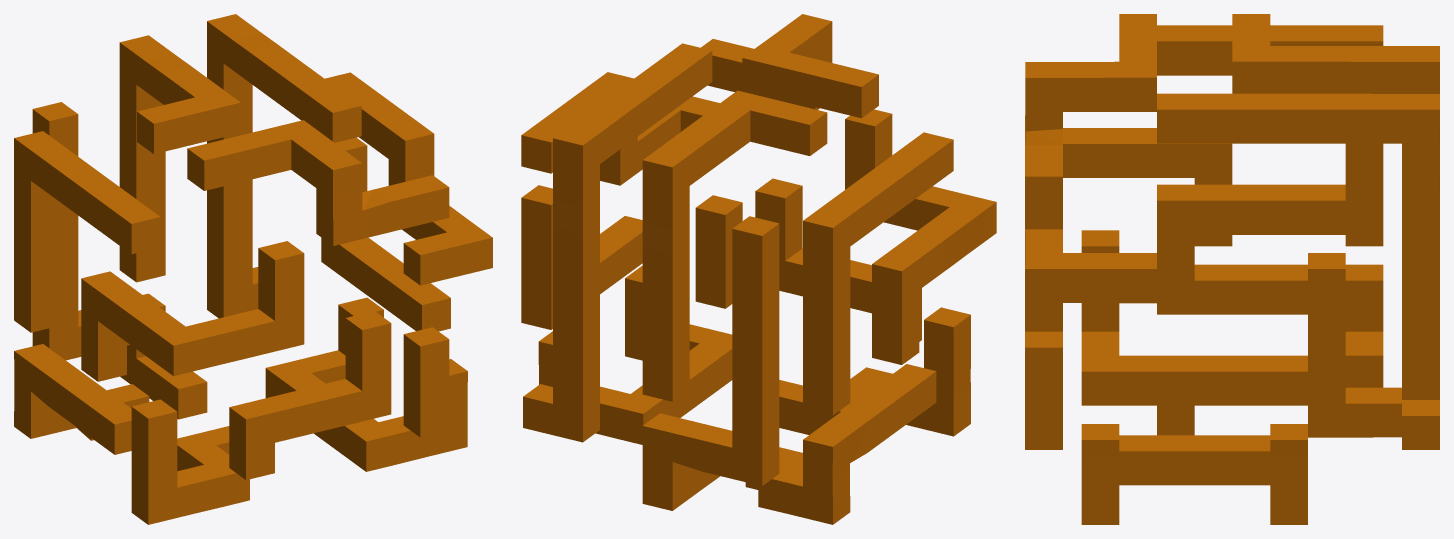
The model's file is Bloc02_actif.FBX.
The picture shows the model from 3 angles, left to right: view 1: azimuth 30°, elevation 25°; view 2: azimuth 150°, elevation 25°; view 3: azimuth 270°, elevation 25°; orthographic projection. The views are drawn at different scales.
Visible parts, largest first — view 1: Bloc_02_actif; view 2: Bloc_02_actif; view 3: Bloc_02_actif.
Part boxes in pixels (<box>): Bloc_02_actif: <box>14,14,492,524</box>; Bloc_02_actif: <box>521,14,996,524</box>; Bloc_02_actif: <box>1025,14,1439,524</box>.
Size of the model in its own units: 110 by 110 by 110.
